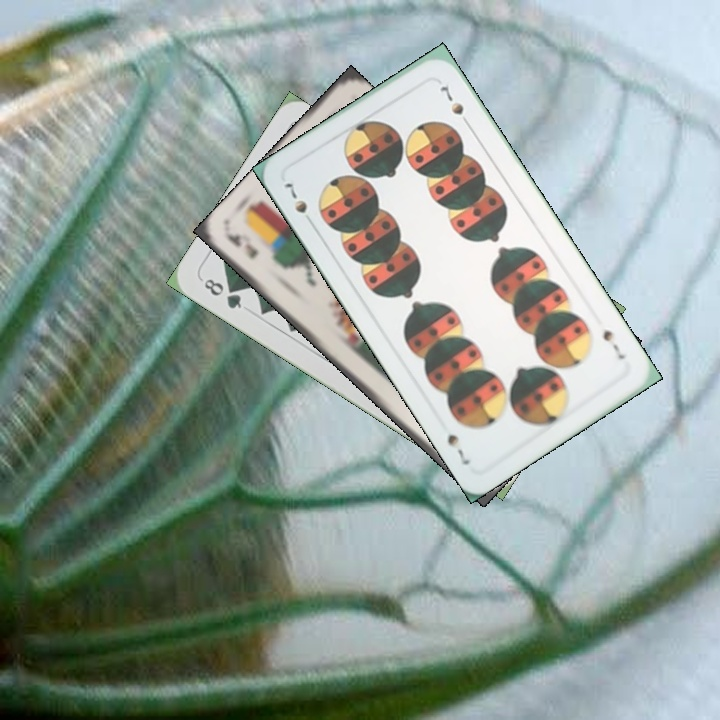EK: (223, 230, 261, 262)
G8: (199, 274, 245, 312)
S7: (279, 175, 317, 229), (598, 323, 628, 362)
